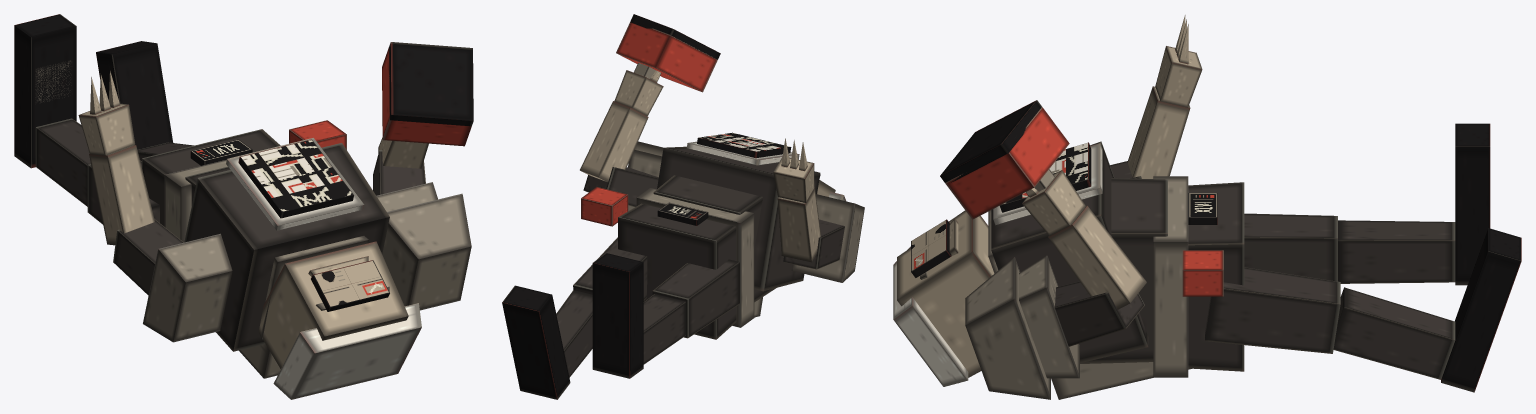
The model's file is exceptor_hurt.obj.
3 renders of one model, left to right at view 1: azimuth 30°, elevation 25°; view 2: azimuth 150°, elevation 25°; view 3: azimuth 270°, elevation 25°, orthographic. The views are drawn at different scales.
Visible parts, largest first — view 1: exceptor_hurt; view 2: exceptor_hurt; view 3: exceptor_hurt.
Boxes of the visible parts, <box> form: exceptor_hurt: <box>14,14,473,399</box>; exceptor_hurt: <box>502,14,864,399</box>; exceptor_hurt: <box>893,15,1521,399</box>.
Bounding box in the file's own units: 0.63 × 0.6164 × 1.05.
1 material, 1 textured.
